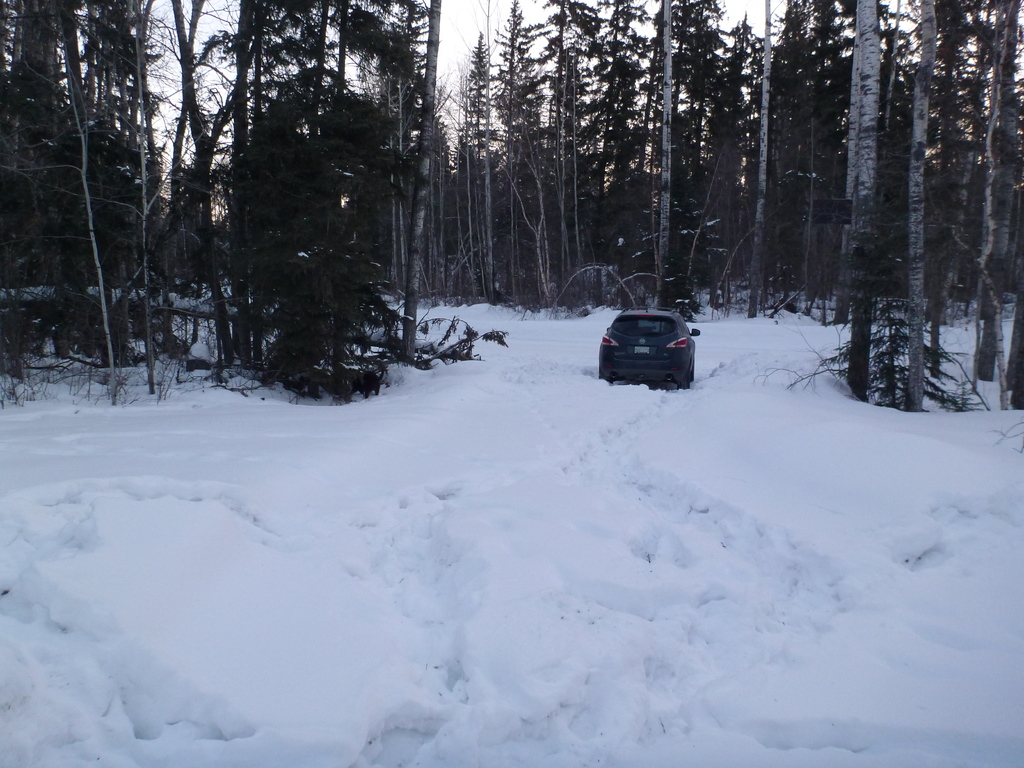mobil: (595, 304, 698, 400)
